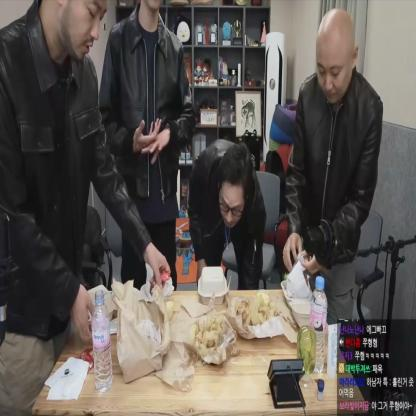streamer: (1, 0, 172, 416), (282, 7, 384, 319), (97, 0, 193, 291), (188, 138, 265, 288)
